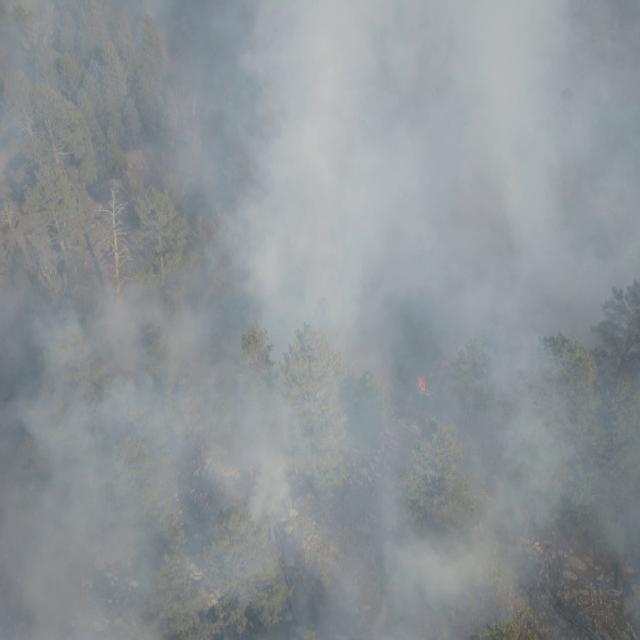fire: (417, 374, 433, 398), (192, 97, 199, 117)
smoke: (0, 0, 640, 640)
